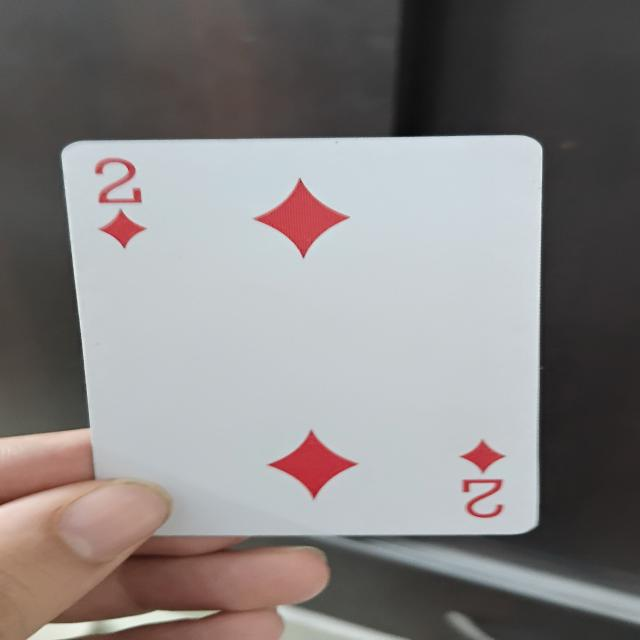2D: (67, 146, 535, 539)
